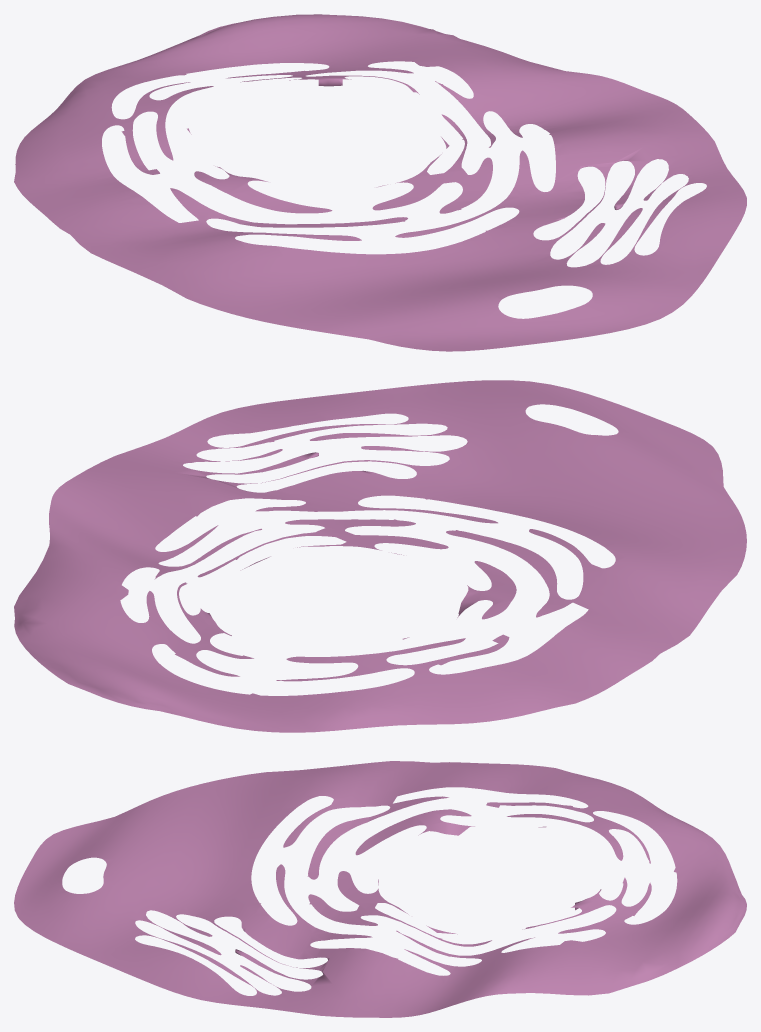
The model's file is citosol e citoscheletro.glb.
The picture shows the model from 3 angles, top to bottom: view 1: azimuth 30°, elevation 25°; view 2: azimuth 150°, elevation 25°; view 3: azimuth 270°, elevation 25°; orthographic projection. The views are drawn at different scales.
Visible parts, largest first — view 1: Sphere.001; view 2: Sphere.001; view 3: Sphere.001.
Boxes of the visible parts, <box> form: Sphere.001: <box>14,14,746,351</box>; Sphere.001: <box>14,380,746,732</box>; Sphere.001: <box>14,761,746,1017</box>.
Bounding box in the file's own units: 5.77 × 0.2613 × 6.96.
